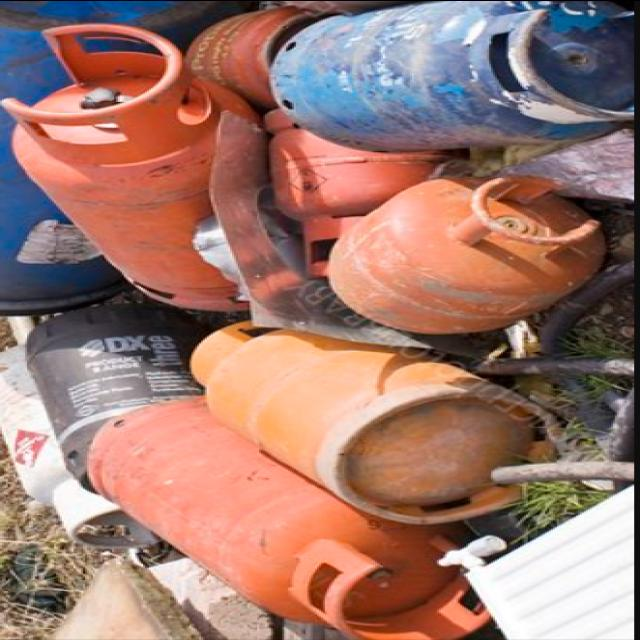cylinder: (86, 394, 492, 639), (189, 317, 563, 523), (1, 22, 261, 310), (269, 1, 635, 151), (326, 174, 606, 333)
